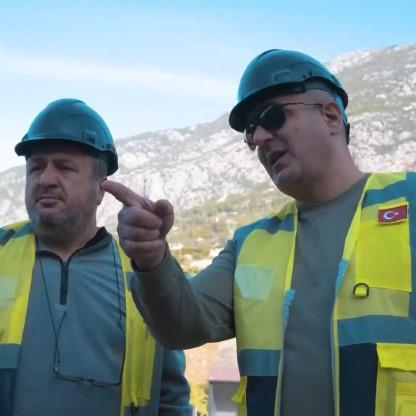helmet: (214, 60, 357, 208), (14, 101, 124, 233)
